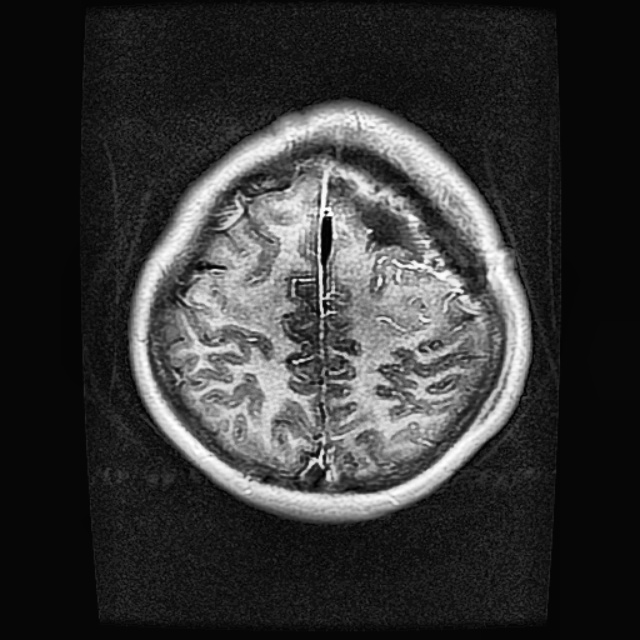Glioma: (328, 179, 418, 253)
